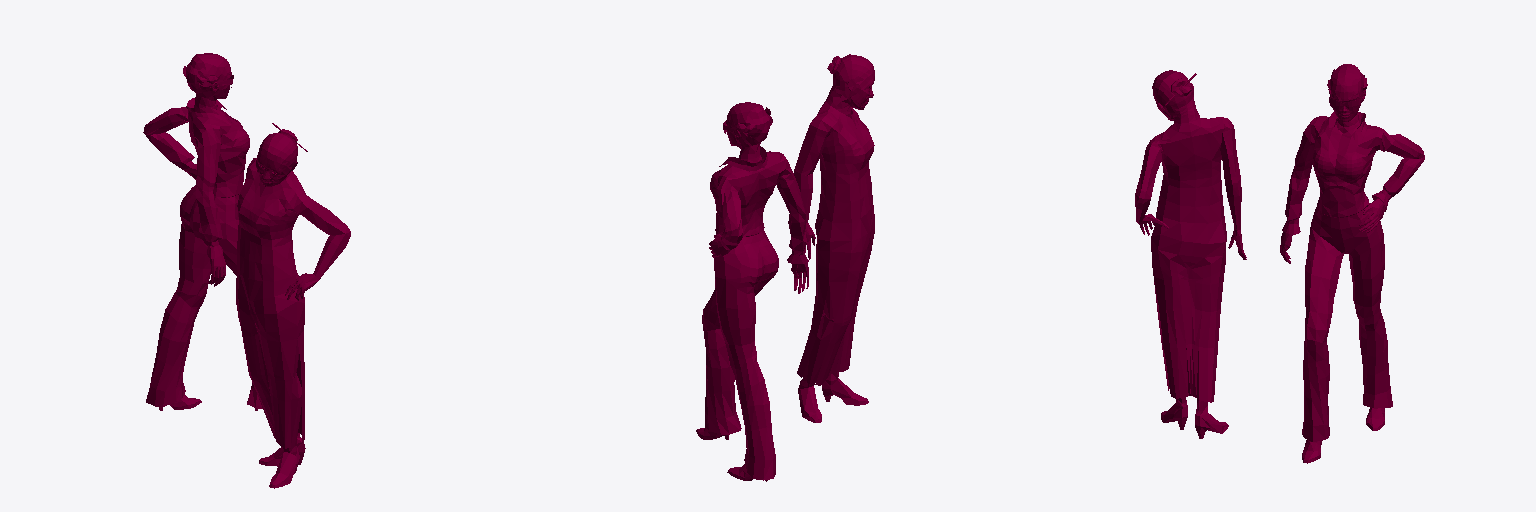
File: PeopleCooking.obj
3 views of the same model, side by side, from view 1: azimuth 30°, elevation 25°; view 2: azimuth 150°, elevation 25°; view 3: azimuth 270°, elevation 25° (orthographic).
Visible parts, largest first — view 1: Layer_crew; view 2: Layer_crew; view 3: Layer_crew.
Part boxes in pixels (x1,y1,x2,y2): Layer_crew: (143, 53, 350, 488); Layer_crew: (696, 54, 874, 481); Layer_crew: (1135, 64, 1424, 463).
Bounding box in the file's own units: 2.31 × 6.88 × 5.